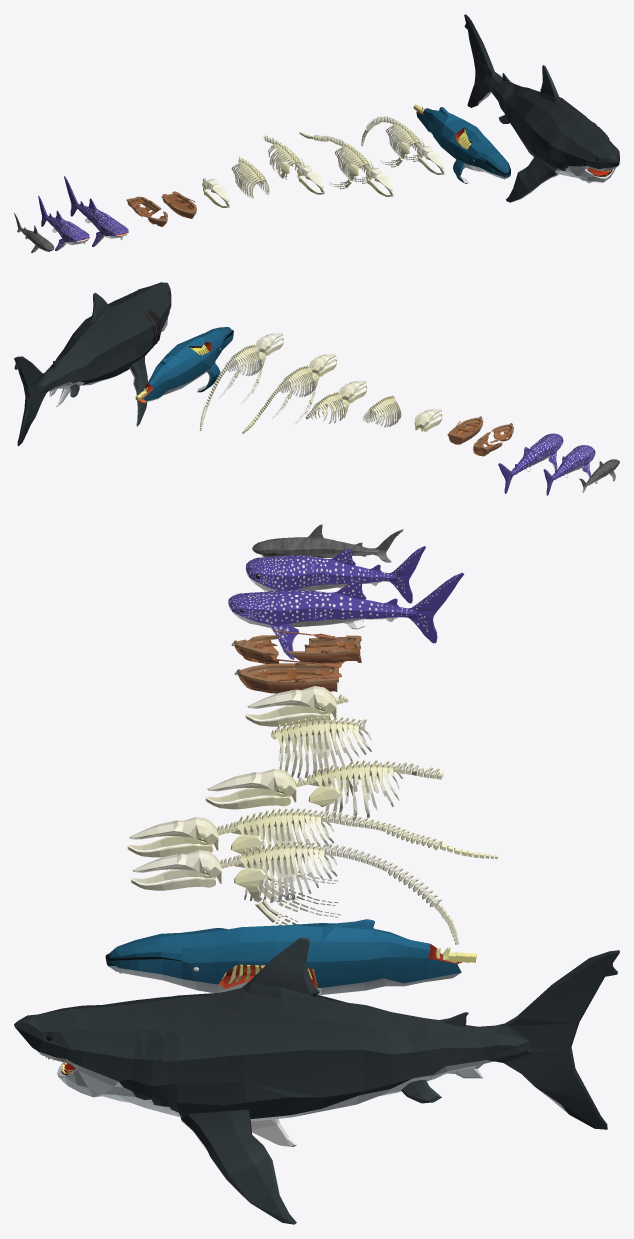
Rendered from AssetPack v 2.0.fbx.
The picture shows the model from 3 angles, top to bottom: view 1: azimuth 30°, elevation 25°; view 2: azimuth 150°, elevation 25°; view 3: azimuth 270°, elevation 25°; orthographic projection. The views are drawn at different scales.
Parts seen in each view (by area): view 1: Megalodon.002, WhaleCorpse.002, WhaleCurved.002, WhaleStraight.002, WhaleDamaged.002, WhaleShark.002, WhaleShark.003, WhaleRigCage.002, Boat.001, TigerShark.002, WhaleHead.002, Boat_broken_2.002; view 2: Megalodon.002, WhaleCorpse.002, WhaleCurved.002, WhaleStraight.002, WhaleShark.002, WhaleDamaged.002, WhaleShark.003, WhaleRigCage.002, Boat.001, TigerShark.002, WhaleHead.002, Boat_broken_2.002; view 3: Megalodon.002, WhaleCorpse.002, WhaleCurved.002, WhaleStraight.002, WhaleShark.002, WhaleDamaged.002, WhaleShark.003, WhaleRigCage.002, WhaleHead.002, Boat.001, TigerShark.002, Boat_broken_2.002 (+1 smaller).
Part boxes in pixels (x1=…): Megalodon.002: x1=464, y1=14, x2=619, y2=202; WhaleCorpse.002: x1=413, y1=104, x2=510, y2=183; WhaleCurved.002: x1=361, y1=116, x2=444, y2=174; WhaleStraight.002: x1=299, y1=132, x2=393, y2=196; WhaleDamaged.002: x1=263, y1=135, x2=324, y2=194; WhaleShark.002: x1=64, y1=176, x2=128, y2=246; WhaleShark.003: x1=38, y1=195, x2=89, y2=251; WhaleRigCage.002: x1=231, y1=156, x2=269, y2=198; Boat.001: x1=161, y1=193, x2=196, y2=218; TigerShark.002: x1=14, y1=213, x2=54, y2=253; WhaleHead.002: x1=202, y1=178, x2=229, y2=207; Boat_broken_2.002: x1=126, y1=196, x2=161, y2=217; Megalodon.002: x1=14, y1=282, x2=171, y2=446; WhaleCorpse.002: x1=135, y1=327, x2=233, y2=403; WhaleCurved.002: x1=199, y1=333, x2=283, y2=431; WhaleStraight.002: x1=242, y1=354, x2=337, y2=433; WhaleShark.002: x1=498, y1=433, x2=563, y2=493; WhaleDamaged.002: x1=305, y1=381, x2=367, y2=423; WhaleShark.003: x1=543, y1=445, x2=595, y2=495; WhaleRigCage.002: x1=363, y1=395, x2=401, y2=427; Boat.001: x1=447, y1=416, x2=483, y2=444; TigerShark.002: x1=579, y1=459, x2=619, y2=492; WhaleHead.002: x1=414, y1=409, x2=442, y2=431; Boat_broken_2.002: x1=473, y1=432, x2=502, y2=456; Megalodon.002: x1=14, y1=937, x2=619, y2=1224; WhaleCorpse.002: x1=105, y1=919, x2=476, y2=994; WhaleCurved.002: x1=131, y1=841, x2=459, y2=944; WhaleStraight.002: x1=127, y1=808, x2=497, y2=905; WhaleShark.002: x1=228, y1=572, x2=464, y2=659; WhaleDamaged.002: x1=205, y1=760, x2=443, y2=820; WhaleShark.003: x1=245, y1=546, x2=425, y2=603; WhaleRigCage.002: x1=271, y1=716, x2=371, y2=778; WhaleHead.002: x1=245, y1=686, x2=348, y2=726; Boat.001: x1=234, y1=662, x2=338, y2=693; TigerShark.002: x1=252, y1=524, x2=403, y2=562; Boat_broken_2.002: x1=286, y1=635, x2=361, y2=663.
Size of the model in its own units: 7008 by 1504 by 3322.
